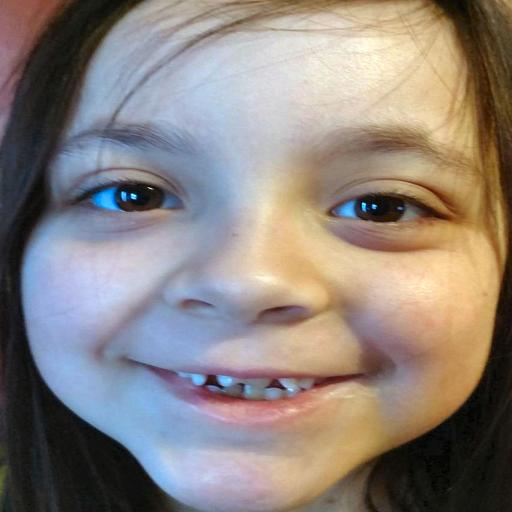Autism: (10, 9, 512, 500)
